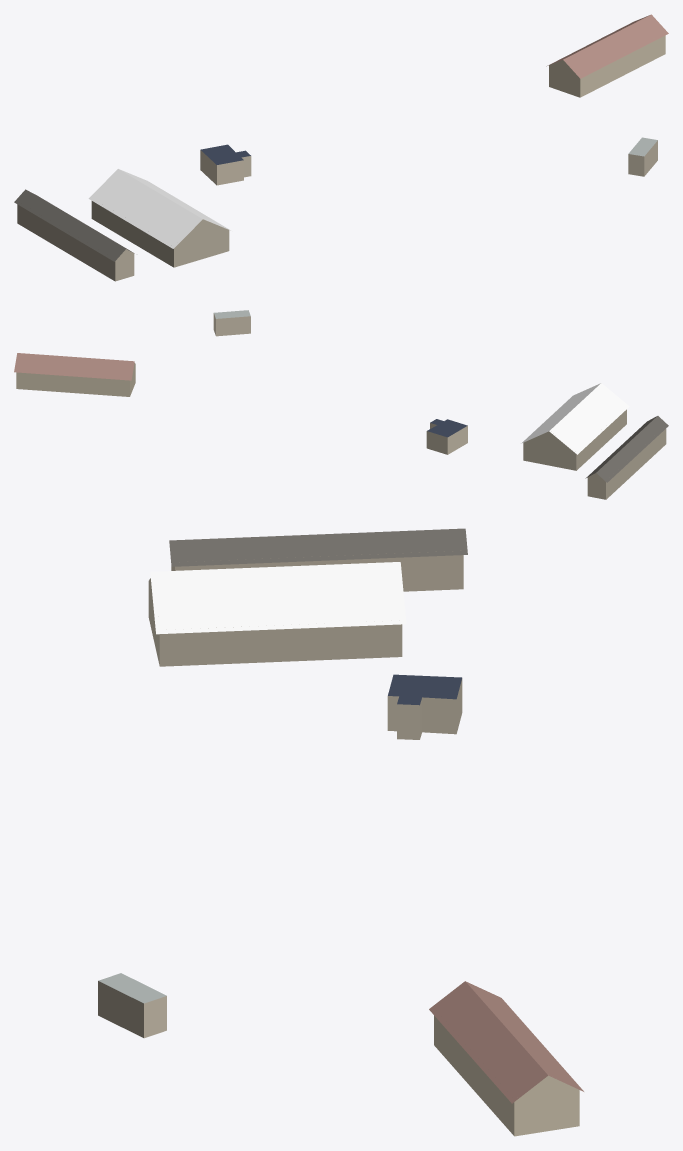
The picture shows the model from 3 angles, top to bottom: view 1: azimuth 30°, elevation 25°; view 2: azimuth 150°, elevation 25°; view 3: azimuth 270°, elevation 25°; orthographic projection. The views are drawn at different scales.
Visible parts, largest first — view 1: tuile; view 2: tuile; view 3: tuile.
Boxes of the visible parts, <box> form: tuile: <box>14,14,668,281</box>; tuile: <box>14,310,668,499</box>; tuile: <box>98,528,583,1136</box>.
Bounding box in the file's own units: 115 × 8.46 × 42.35.
